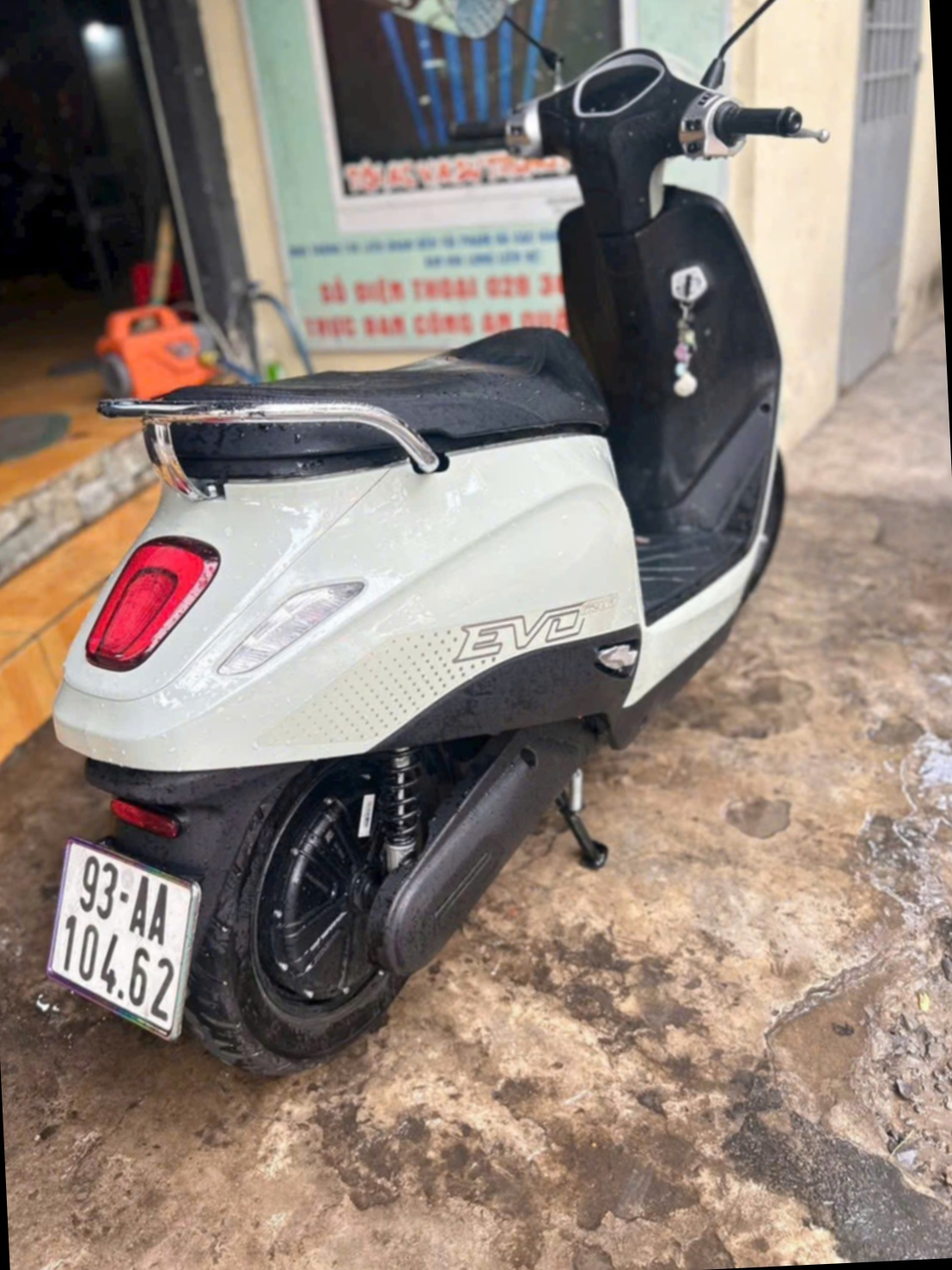Bien-so: (6, 813, 166, 1019)
